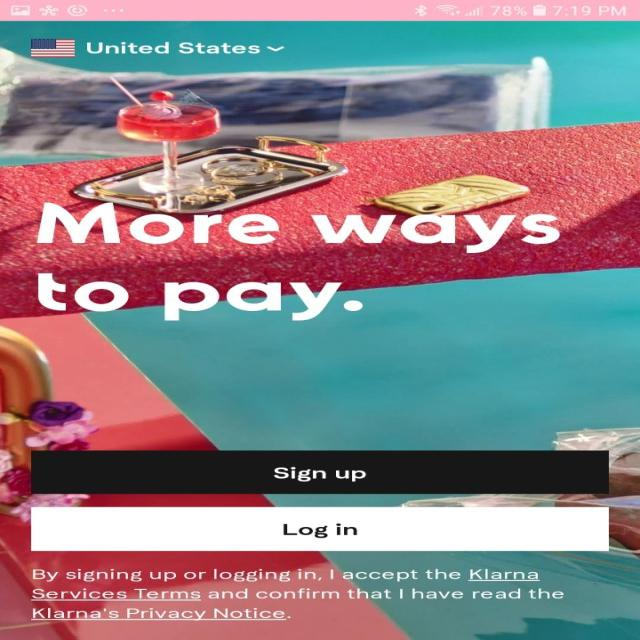BackgroundImage: (0, 21, 639, 639)
Icon: (266, 46, 284, 52)
Image: (30, 38, 76, 58)
Text: (36, 201, 560, 321), (30, 568, 564, 620), (87, 42, 260, 54)
TextButton: (30, 450, 608, 494), (30, 506, 608, 550)
